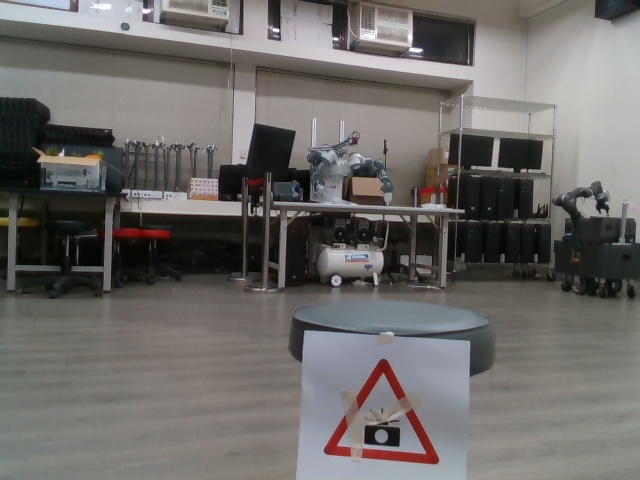camera: (322, 354, 447, 468)
